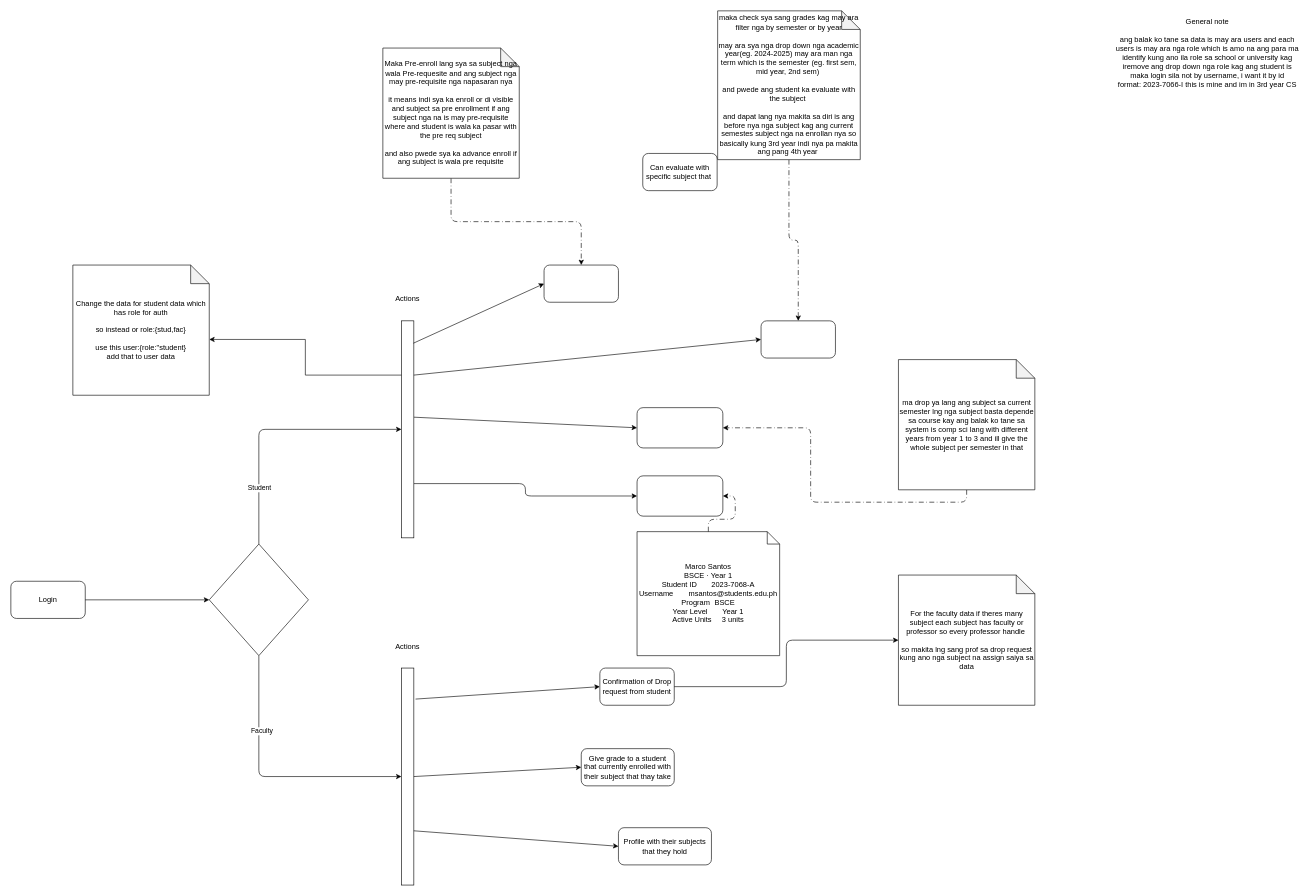
This 1311x896 diagram has some shape labels left out. The box of each missing label's shape, as (x1, y1, x2, y2) in pixels:
Check Grades: (760, 320, 835, 358)
Pre enroll: (543, 264, 618, 302)
Profile: (636, 475, 723, 516)
Request Drop Subject: (636, 407, 723, 448)
Student or Faculty: (209, 543, 308, 656)
